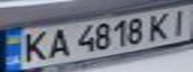1: (109, 18, 130, 48)
4: (75, 21, 96, 54)
8: (124, 15, 151, 45), (93, 20, 115, 52)
A: (42, 26, 72, 60)
I: (166, 6, 193, 36)
K: (15, 29, 51, 64), (145, 10, 178, 42)
